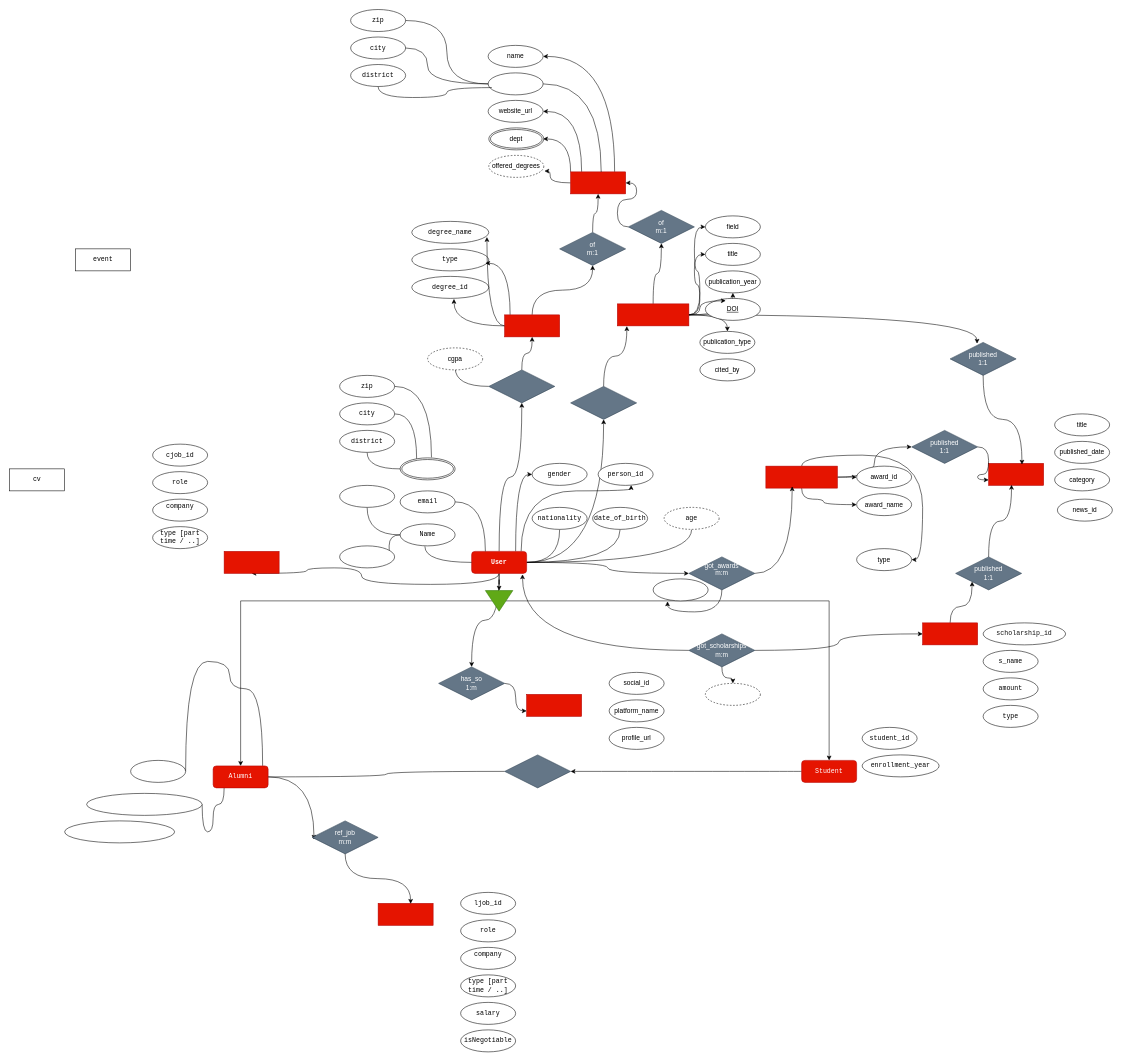
The diagram is 1122 pixels wide and 1062 high, and some of its shapes have lost their labels. Each missing label, with the centre of its shape:
"address" belongs at (427,468).
"alumni_id" belongs at (158,771).
"award_date" belongs at (680,589).
"awards m:m" belongs at (801,477).
"completed m:m" belongs at (521,386).
"current_job" belongs at (251,562).
"Degree" belongs at (532,325).
"does_research m:m" belongs at (603,402).
"first_Name" belongs at (367,496).
"gives_mentorship m:m" belongs at (537,771).
"is_currently_abroad" belongs at (144,804).
"isA" belongs at (499,600).
"isAcceptingMentees" belongs at (119,831).
"issued date" belongs at (732,694).
"last_Name" belongs at (367,556).
"listed_job" belongs at (405,914).
"location" belongs at (515,83).
"news" belongs at (1016,474).
"research" belongs at (653,314).
"scholarship" belongs at (950,633).
"socials (weak)" belongs at (554,705).
"uni" belongs at (598,182).
